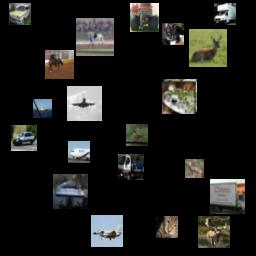airplane: (67, 86, 102, 121), (91, 215, 123, 247), (68, 141, 90, 163)
automobile: (11, 125, 37, 151), (9, 3, 31, 25)
bird: (126, 124, 148, 146)
cat: (156, 216, 178, 238), (162, 23, 184, 45)
deer: (189, 29, 227, 67), (198, 216, 230, 248), (185, 159, 204, 178)
frog: (162, 79, 197, 114)
ship: (53, 174, 88, 209), (33, 99, 52, 118)
truck: (210, 179, 245, 214), (130, 3, 159, 32), (118, 154, 144, 180), (214, 3, 236, 25)
